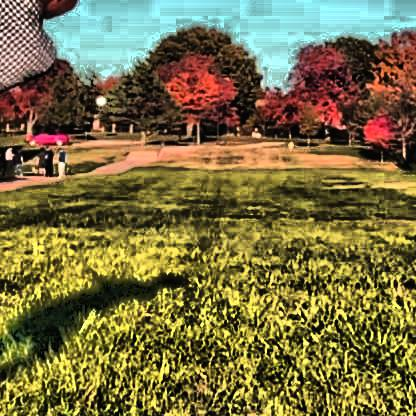golfball: (91, 93, 106, 105)
